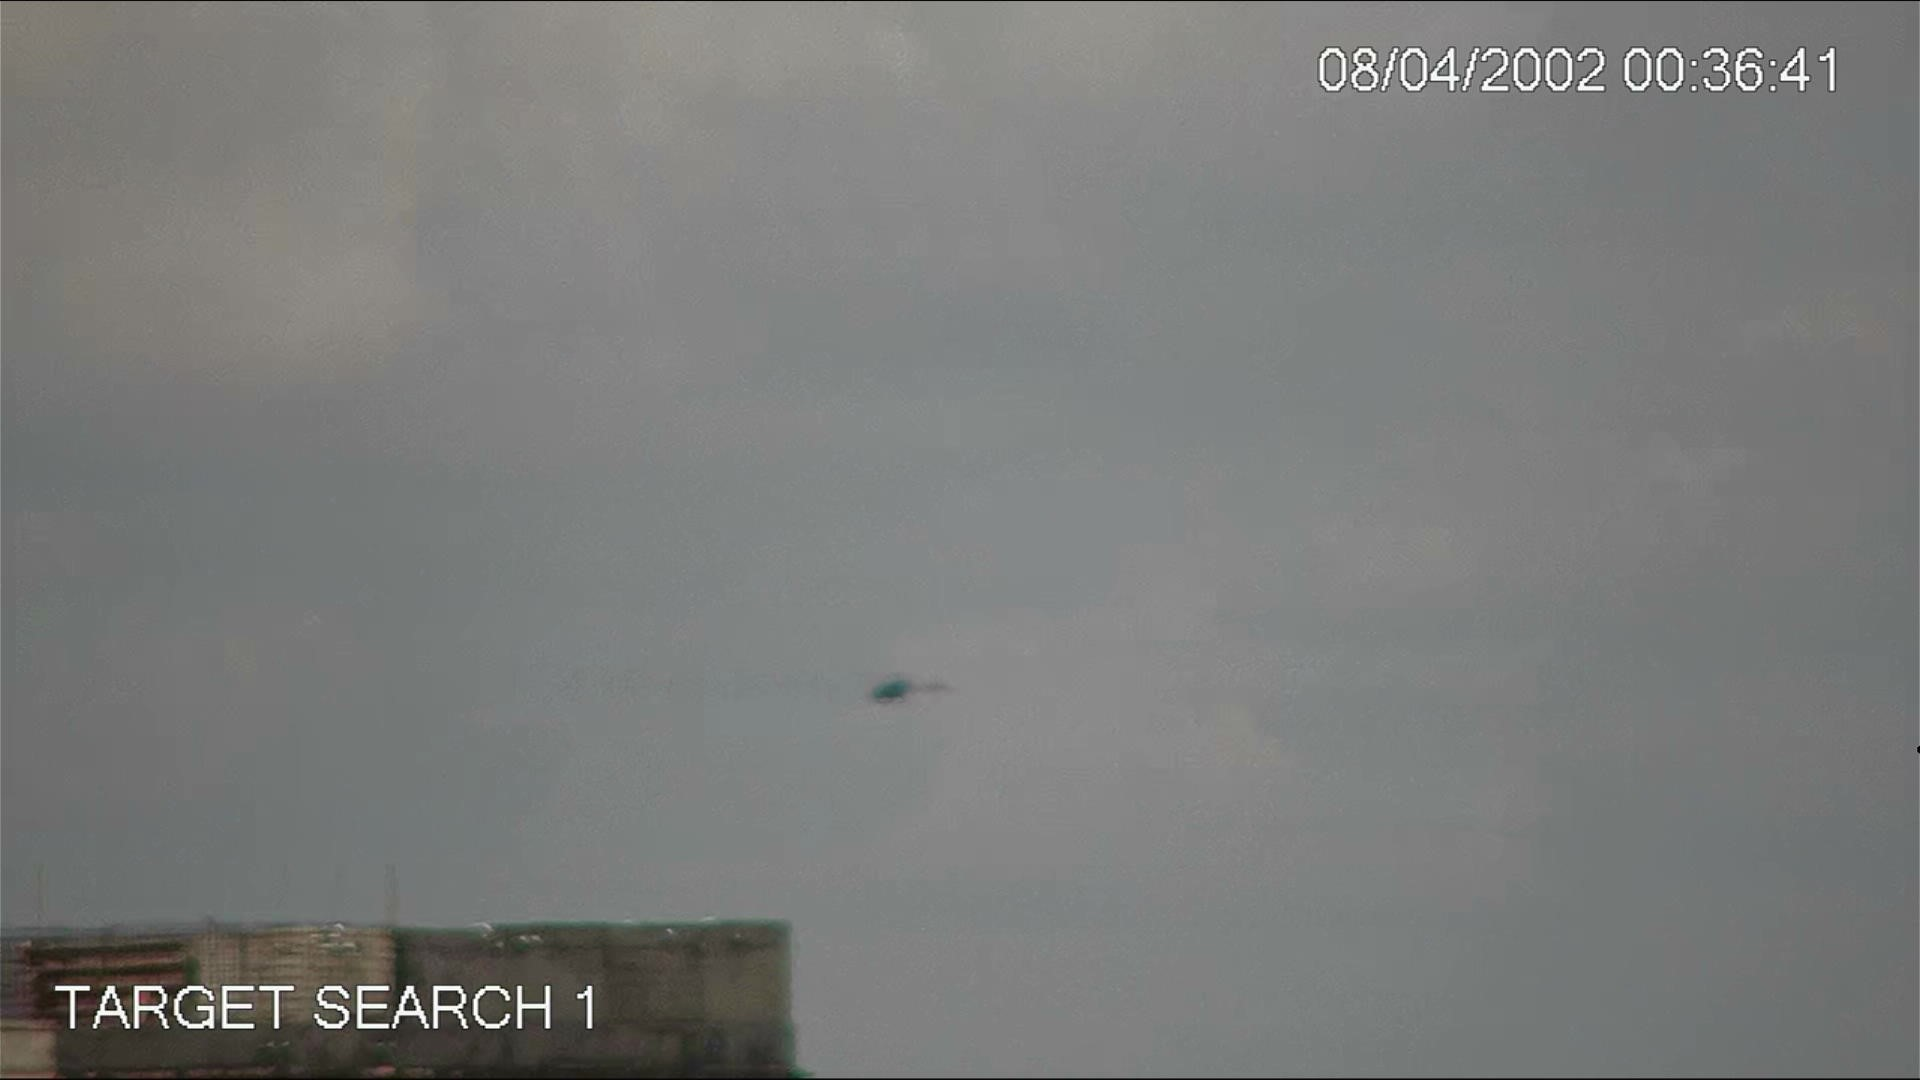SU_30: (865, 667, 956, 704)
